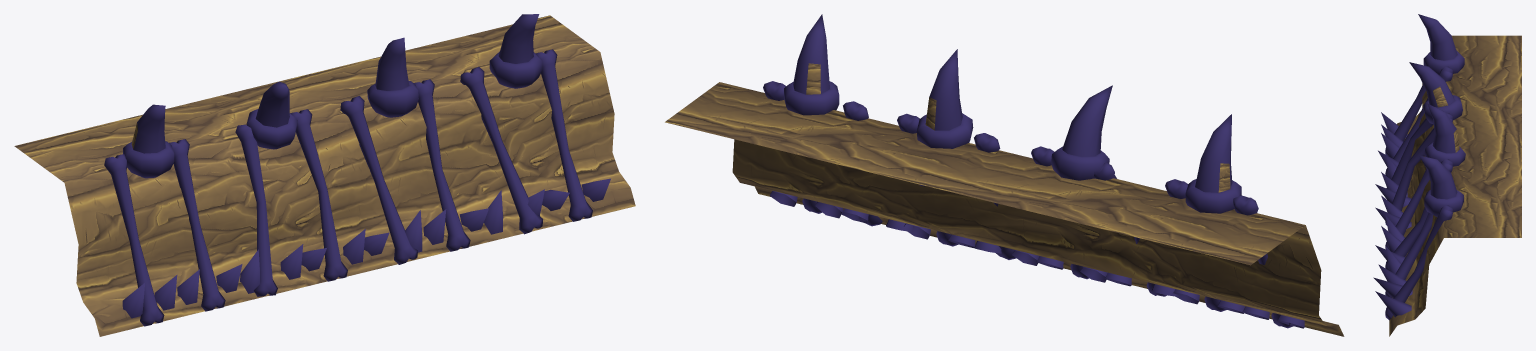
The model's file is Wall_LevelEdge_01.FBX.
3 renders of one model, left to right at view 1: azimuth 30°, elevation 25°; view 2: azimuth 150°, elevation 25°; view 3: azimuth 270°, elevation 25°, orthographic. The views are drawn at different scales.
Parts seen in each view (by area): view 1: Wall_LevelEdge_01; view 2: Wall_LevelEdge_01; view 3: Wall_LevelEdge_01.
Boxes of the visible parts, left/top/right/bottom form: Wall_LevelEdge_01: left=14, top=14, right=635, bottom=336; Wall_LevelEdge_01: left=665, top=14, right=1344, bottom=336; Wall_LevelEdge_01: left=1373, top=14, right=1521, bottom=336.
Bounding box in the file's own units: 17.5 × 6.35 × 5.44.
